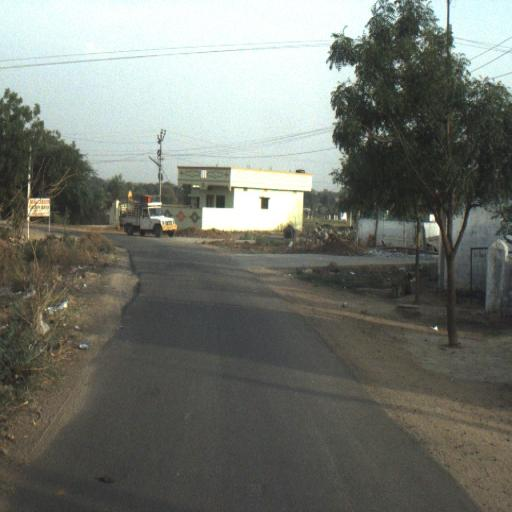street_light_0: (148, 155, 162, 172)
